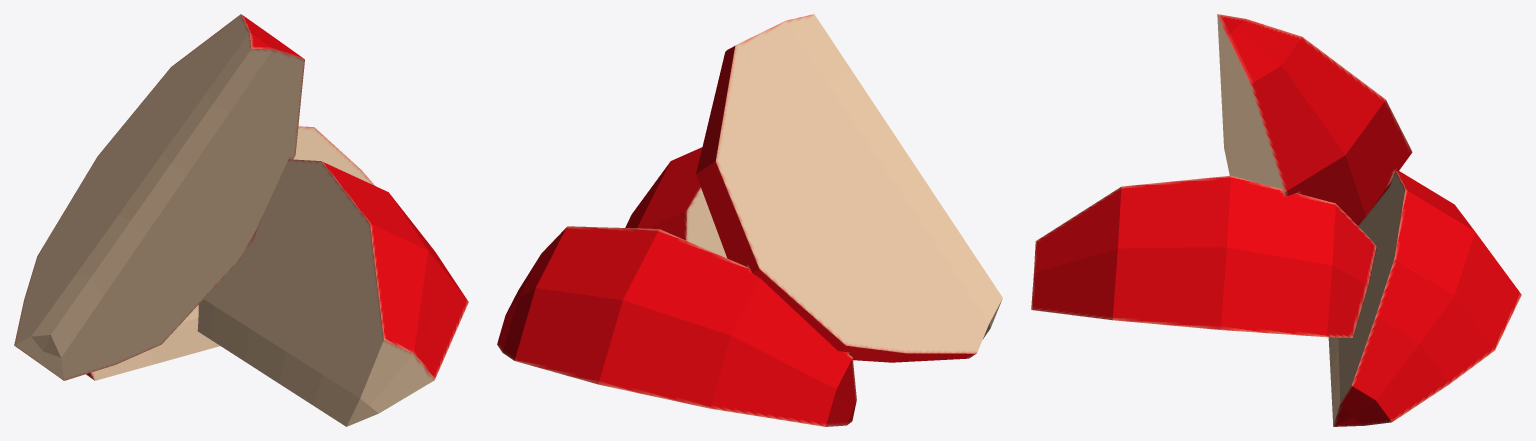
The model's file is cut_apple.fbx.
3 views of the same model, side by side, from view 1: azimuth 30°, elevation 25°; view 2: azimuth 150°, elevation 25°; view 3: azimuth 270°, elevation 25° (orthographic). The views are drawn at different scales.
Visible parts, largest first — view 1: Cut_Apple; view 2: Cut_Apple; view 3: Cut_Apple.
Part boxes in pixels (x1,y1,x2,y2): Cut_Apple: [14, 14, 468, 426]; Cut_Apple: [497, 14, 1002, 426]; Cut_Apple: [1031, 14, 1521, 426].
Bounding box in the file's own units: 78.53 × 61 × 82.86.
